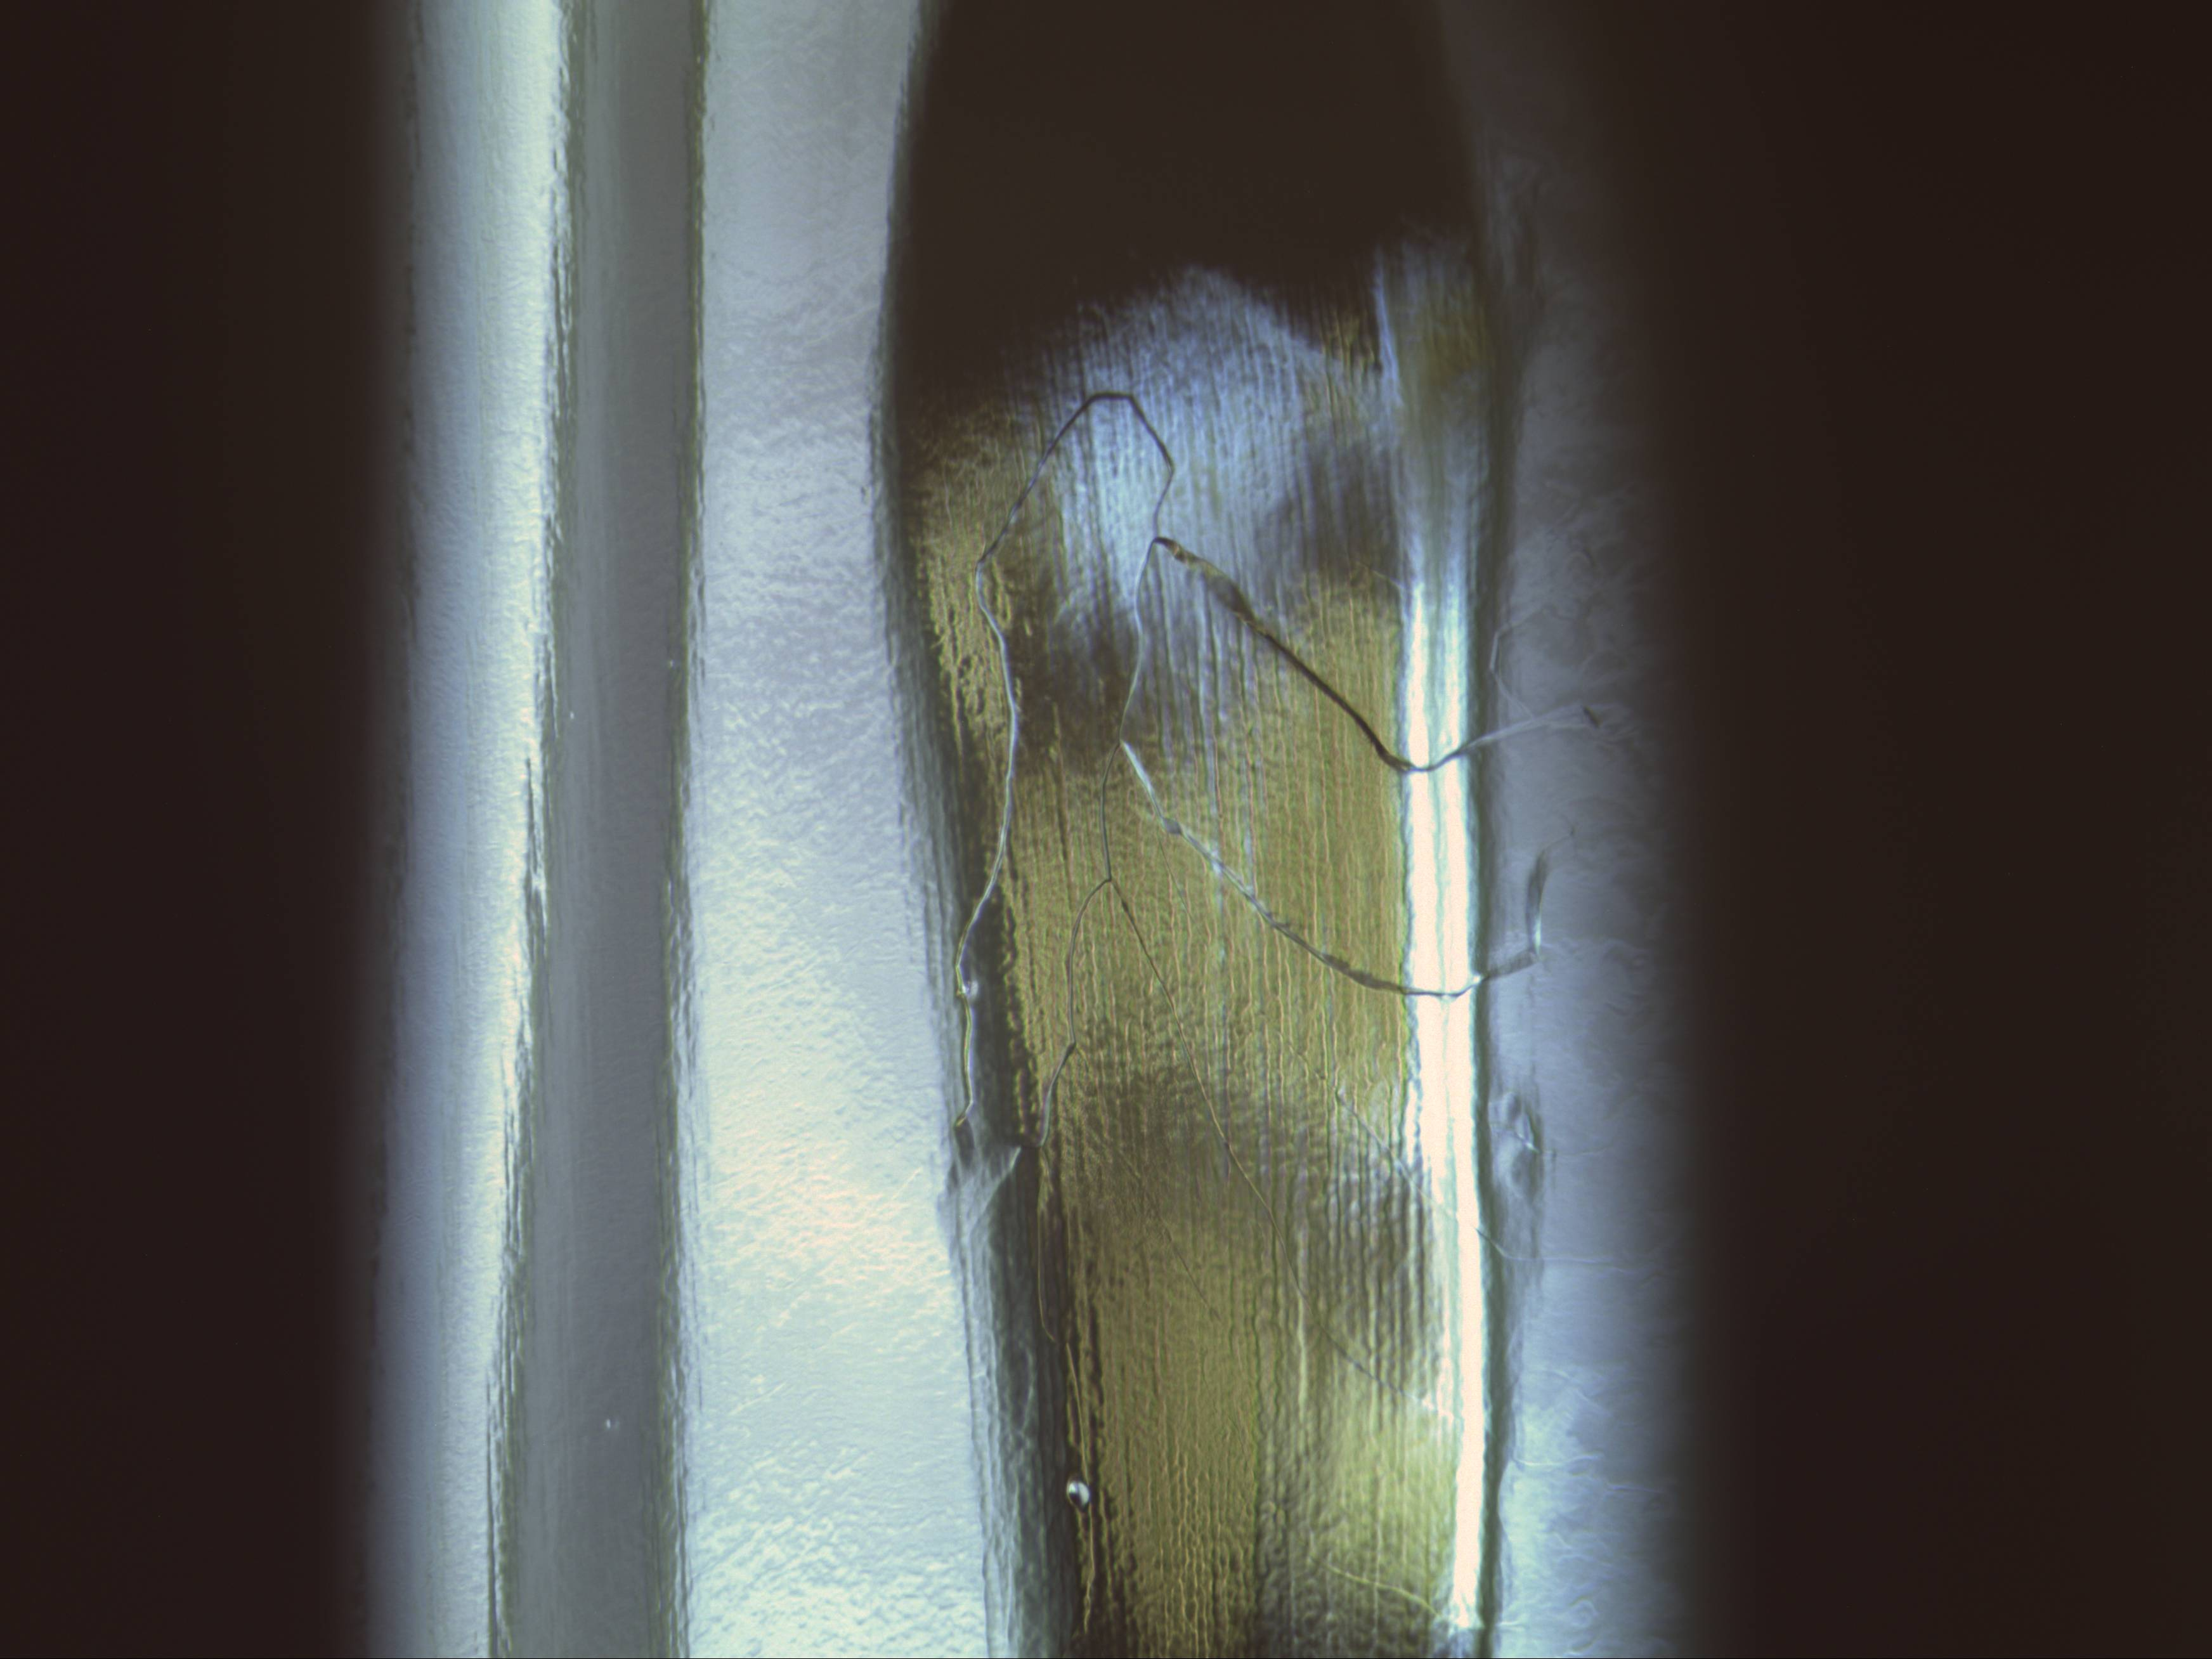defect: (1064, 1478, 1094, 1506)
